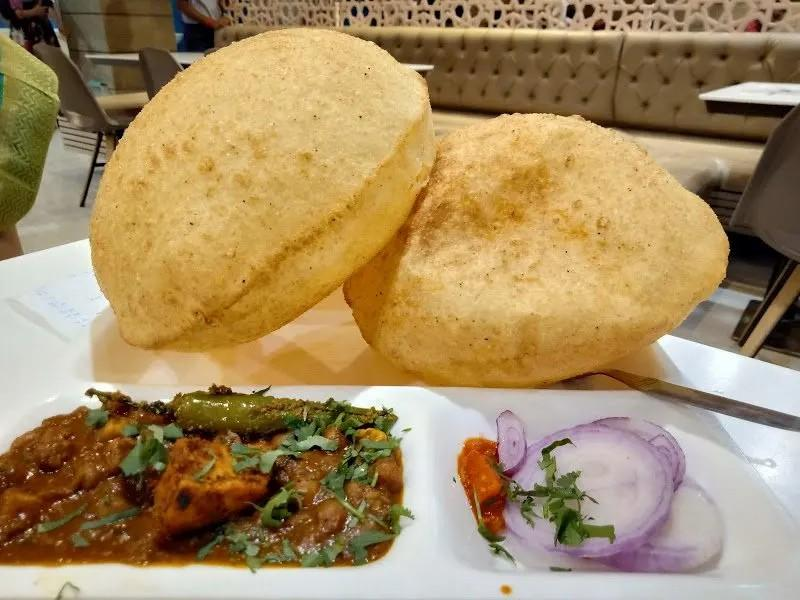Bhatura: (87, 29, 729, 391)
